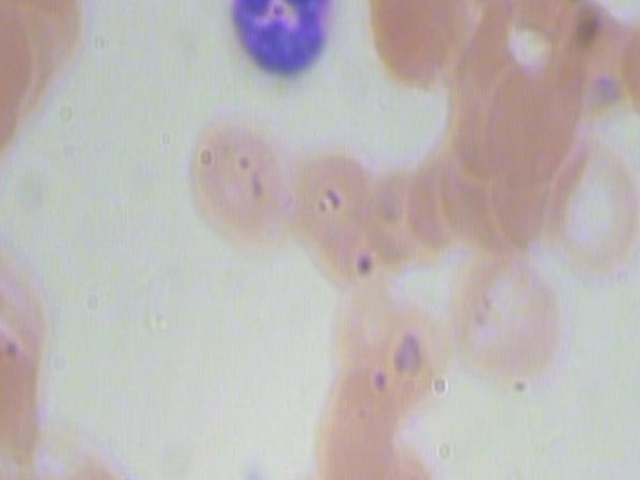RBC: (274, 135, 394, 279), (443, 239, 563, 383), (330, 278, 450, 422), (180, 110, 299, 254), (475, 42, 594, 186), (297, 352, 416, 480), (543, 132, 640, 276), (354, 0, 473, 95), (336, 449, 455, 480)
WBC: (206, 0, 351, 79)
